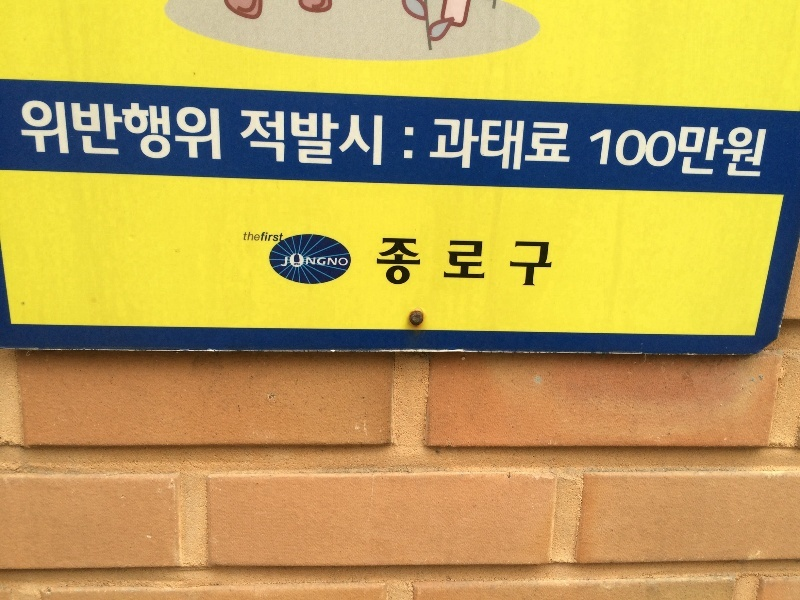text: (17, 102, 32, 161), (33, 102, 48, 161), (49, 102, 64, 161), (65, 102, 80, 161), (81, 102, 96, 161), (97, 102, 112, 161), (113, 102, 128, 161), (129, 102, 144, 161), (145, 102, 160, 161), (161, 102, 176, 161), (177, 102, 192, 161), (193, 102, 208, 161), (449, 119, 464, 176), (465, 119, 480, 176), (481, 119, 496, 176), (497, 119, 512, 176), (513, 119, 528, 176), (529, 119, 544, 176), (545, 119, 560, 176), (241, 111, 256, 167), (257, 111, 272, 167), (273, 111, 288, 167), (289, 111, 304, 167), (305, 111, 320, 167), (321, 111, 336, 167), (337, 111, 352, 167), (353, 111, 368, 167), (434, 119, 448, 176), (369, 111, 383, 167), (593, 128, 608, 180), (609, 128, 624, 180), (625, 128, 640, 180), (641, 128, 656, 180), (657, 128, 672, 180), (673, 128, 688, 180), (689, 128, 704, 180), (705, 128, 720, 180), (721, 128, 736, 180), (737, 128, 752, 180), (753, 128, 768, 180), (209, 102, 222, 161), (385, 239, 400, 287), (401, 239, 416, 287), (417, 239, 432, 287), (433, 239, 448, 287), (449, 239, 464, 287), (465, 239, 480, 287), (481, 239, 496, 287), (497, 239, 512, 287), (513, 239, 528, 287), (529, 239, 544, 287), (561, 119, 573, 176), (545, 239, 555, 287), (405, 128, 416, 161), (377, 239, 384, 287), (289, 254, 304, 268), (305, 254, 320, 268), (321, 254, 336, 268), (241, 232, 256, 243), (257, 232, 272, 243), (589, 128, 592, 180), (337, 254, 348, 268), (273, 232, 285, 243), (281, 254, 288, 268)
